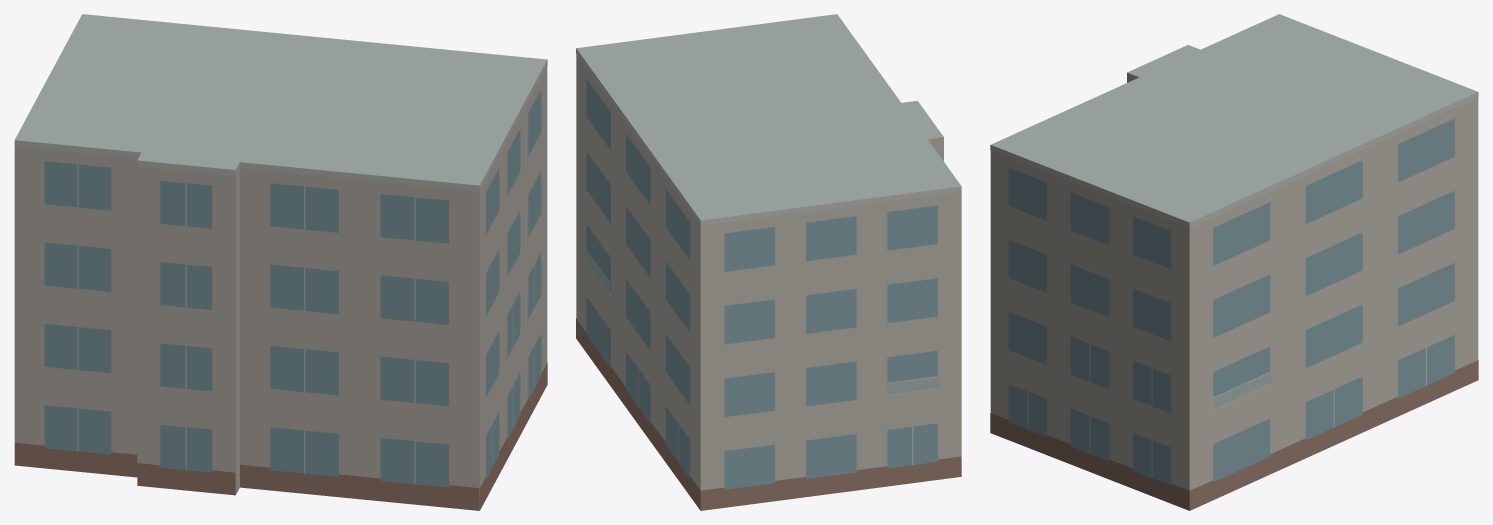
The model's file is survey-upis-32804020.glb.
3 renders of one model, left to right at view 1: azimuth 30°, elevation 25°; view 2: azimuth 150°, elevation 25°; view 3: azimuth 270°, elevation 25°, orthographic. The views are drawn at different scales.
Parts seen in each view (by area): view 1: survey-upis-32804020.tmp; view 2: survey-upis-32804020.tmp; view 3: survey-upis-32804020.tmp.
Part boxes in pixels (bbox=[...]): survey-upis-32804020.tmp: bbox=[14, 14, 547, 510]; survey-upis-32804020.tmp: bbox=[576, 14, 961, 510]; survey-upis-32804020.tmp: bbox=[990, 14, 1478, 510].
Size of the model in its own units: 19.87 by 12.8 by 19.64.
